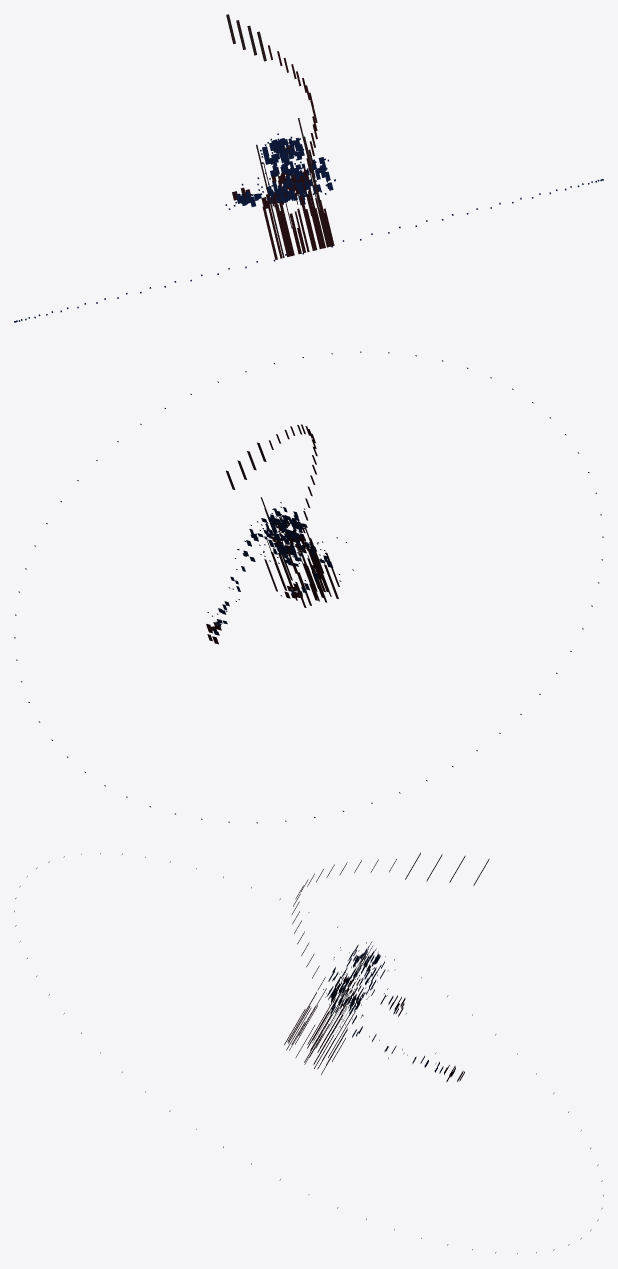
File: black_ice_scorpion.glb
3 views of the same model, one above another, from view 1: azimuth 30°, elevation 25°; view 2: azimuth 150°, elevation 25°; view 3: azimuth 270°, elevation 25° (orthographic). The views are drawn at different scales.
Parts seen in each view (by area): view 1: black_ice_scorpion_inner, black_ice_scorpion_shell, black_ice_scorpion_dust; view 2: black_ice_scorpion_inner, black_ice_scorpion_shell; view 3: black_ice_scorpion_inner, black_ice_scorpion_shell.
Part boxes in pixels (x1=…): black_ice_scorpion_inner: x1=226, y1=14, x2=334, y2=259; black_ice_scorpion_shell: x1=236, y1=137, x2=333, y2=206; black_ice_scorpion_dust: x1=14, y1=133, x2=603, y2=322; black_ice_scorpion_inner: x1=206, y1=424, x2=339, y2=644; black_ice_scorpion_shell: x1=213, y1=507, x2=333, y2=635; black_ice_scorpion_inner: x1=284, y1=852, x2=489, y2=1082; black_ice_scorpion_shell: x1=327, y1=944, x2=454, y2=1076.
Bounding box in the file's own units: 8.02 × 4.54 × 7.07.
